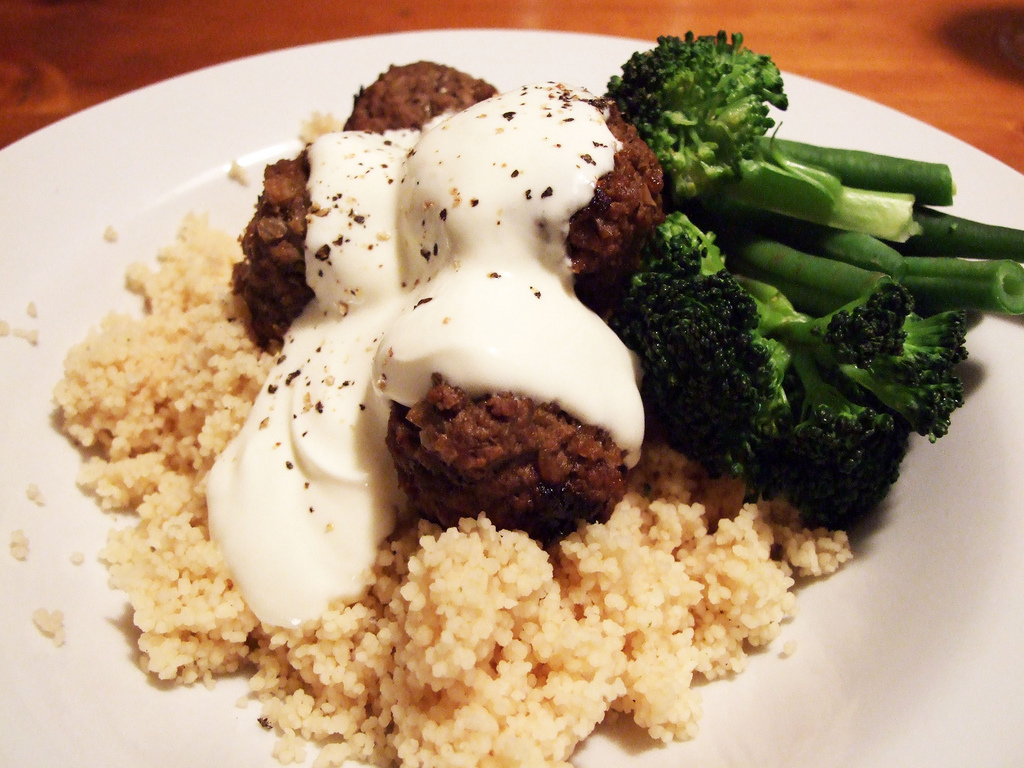meatballs: (411, 302, 624, 497)
plain rice: (411, 555, 586, 750), (122, 327, 227, 438)
